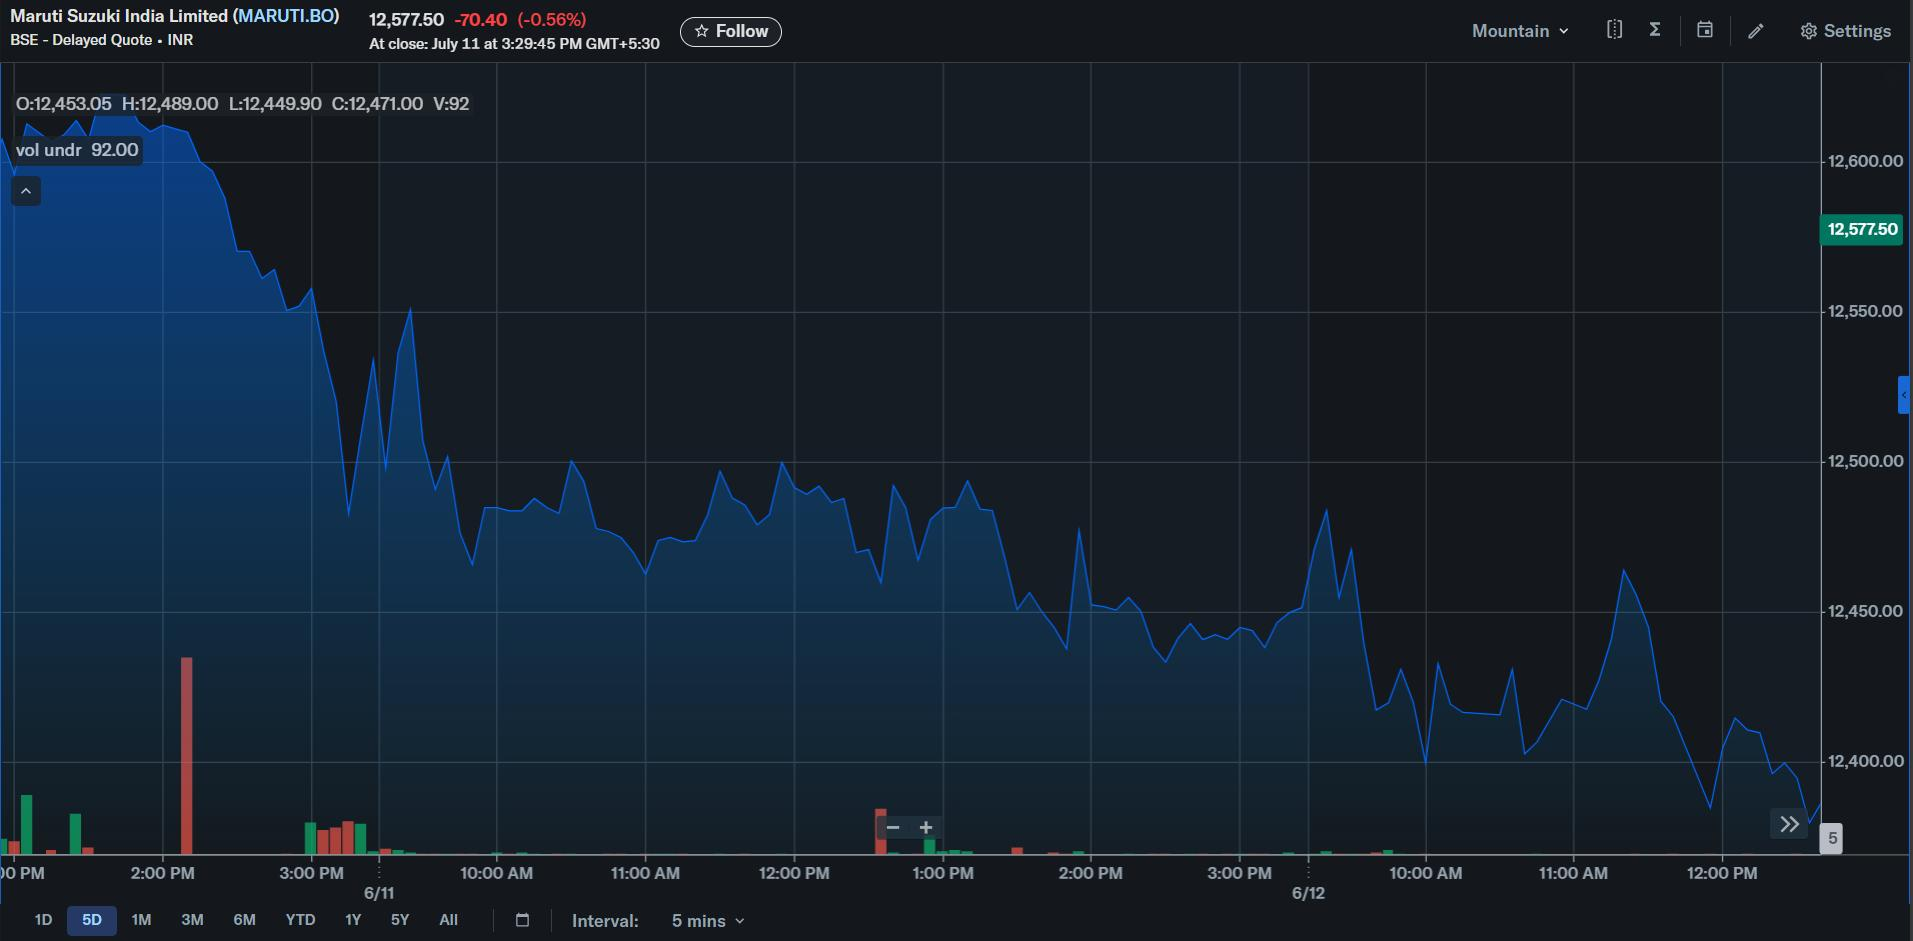Downtrend: (172, 110, 323, 338), (400, 276, 489, 596), (978, 466, 1077, 672)
Sideways: (648, 437, 870, 560)
Uptrend: (1514, 536, 1632, 775), (1244, 487, 1340, 664)
